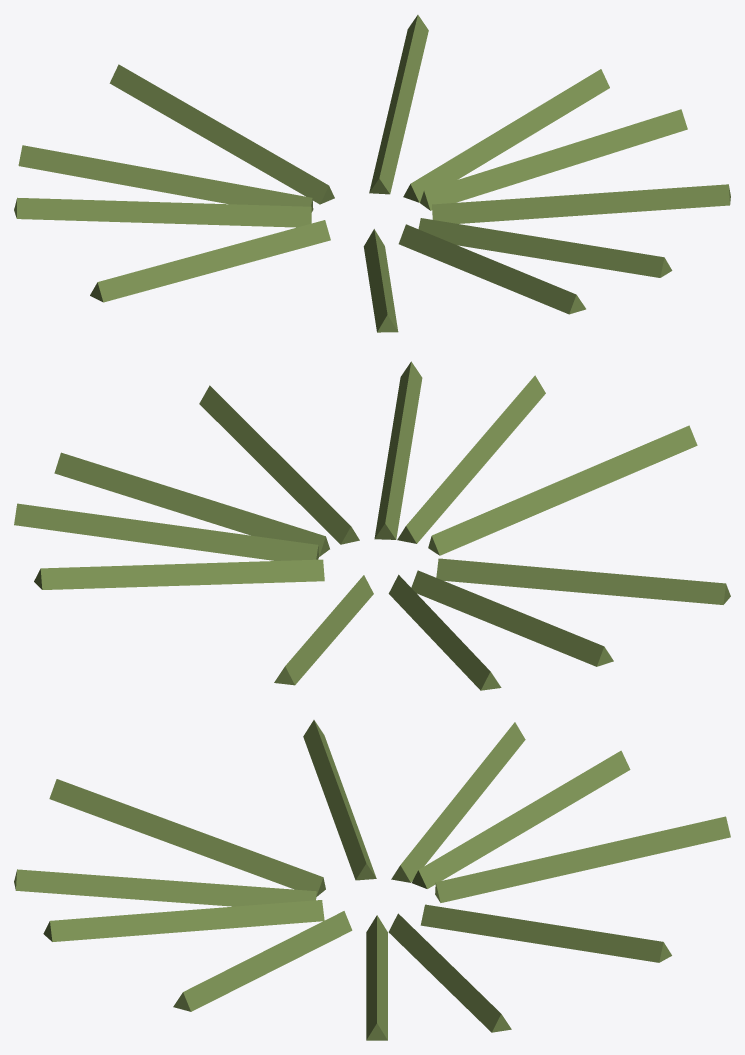
The model's file is seaweed.glb.
3 views of the same model, one above another, from view 1: azimuth 30°, elevation 25°; view 2: azimuth 150°, elevation 25°; view 3: azimuth 270°, elevation 25° (orthographic). The views are drawn at different scales.
Visible parts, largest first — view 1: Stem.005, Stem.009, Stem.001, Stem, Stem.006, Stem.010, Stem.004, Stem.008, Stem.002, Stem.003, Stem.007; view 2: Stem.008, Stem.004, Stem.003, Stem.007, Stem, Stem.009, Stem.005, Stem.002, Stem.010, Stem.001, Stem.006; view 3: Stem.006, Stem.007, Stem.002, Stem.010, Stem.003, Stem.001, Stem.005, Stem.009, Stem.004, Stem.008, Stem.
Part boxes in pixels (bbox=[...]): Stem.005: bbox=[432, 184, 730, 223]; Stem.009: bbox=[14, 197, 311, 227]; Stem.001: bbox=[18, 145, 313, 212]; Stem: bbox=[420, 109, 687, 210]; Stem.006: bbox=[109, 64, 334, 204]; Stem.010: bbox=[418, 218, 672, 277]; Stem.004: bbox=[90, 220, 330, 302]; Stem.008: bbox=[403, 69, 609, 202]; Stem.002: bbox=[398, 224, 585, 314]; Stem.003: bbox=[369, 15, 428, 194]; Stem.007: bbox=[363, 229, 398, 332]; Stem.008: bbox=[14, 503, 318, 560]; Stem.004: bbox=[436, 558, 730, 604]; Stem.003: bbox=[34, 559, 324, 589]; Stem.007: bbox=[428, 425, 697, 555]; Stem: bbox=[54, 452, 329, 556]; Stem.009: bbox=[411, 570, 613, 666]; Stem.005: bbox=[199, 385, 359, 544]; Stem.002: bbox=[397, 375, 545, 543]; Stem.010: bbox=[374, 361, 422, 539]; Stem.001: bbox=[388, 574, 501, 690]; Stem.006: bbox=[274, 575, 373, 685]; Stem.006: bbox=[435, 816, 730, 902]; Stem.007: bbox=[49, 779, 325, 896]; Stem.002: bbox=[14, 869, 316, 906]; Stem.010: bbox=[43, 900, 324, 941]; Stem.003: bbox=[420, 904, 671, 962]; Stem.001: bbox=[412, 750, 630, 888]; Stem.005: bbox=[173, 911, 352, 1011]; Stem.009: bbox=[391, 722, 525, 882]; Stem.004: bbox=[303, 720, 376, 880]; Stem.008: bbox=[388, 913, 511, 1032]; Stem: bbox=[366, 915, 387, 1040].
Bounding box in the file's own units: 1.39 × 0.1207 × 1.38.
